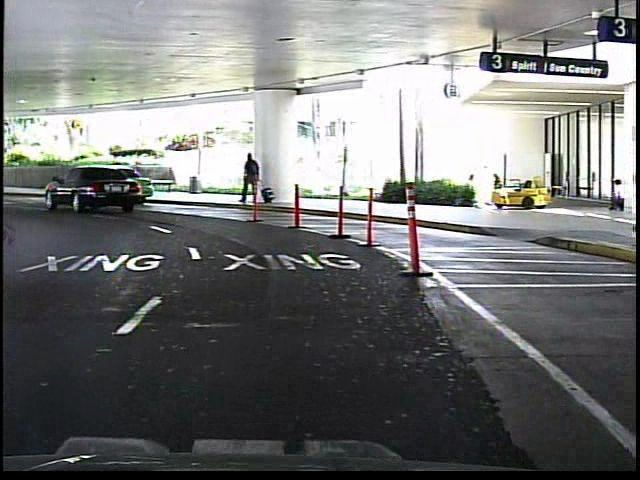person: (239, 150, 266, 210), (604, 174, 630, 214)
